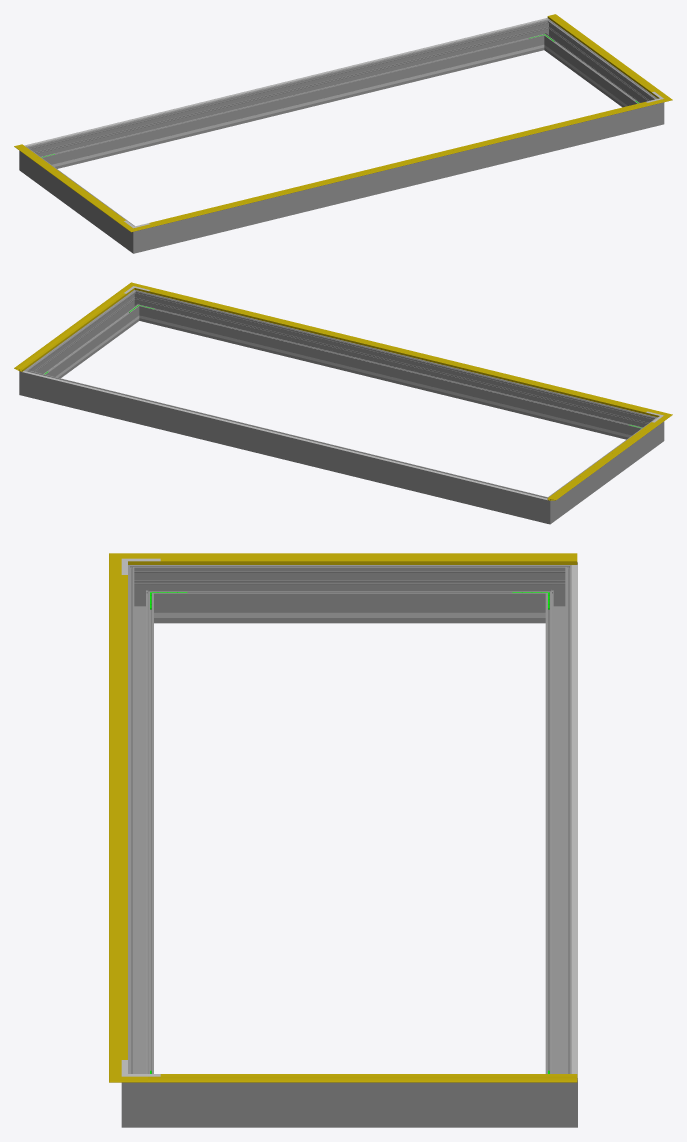
3 renders of one model, top to bottom at view 1: azimuth 30°, elevation 25°; view 2: azimuth 150°, elevation 25°; view 3: azimuth 270°, elevation 25°, orthographic. The views are drawn at different scales.
Parts seen in each view (by area): view 1: 3DGeom-276, 3DGeom-298, 3DGeom-297, 3DGeom-141, 3DGeom-268, 3DGeom-244, 3DGeom-220, 3DGeom-158, 3DGeom-145, 3DGeom-147, 3DGeom-270, 3DGeom-290 (+1 smaller); view 2: 3DGeom-298, 3DGeom-276, 3DGeom-141, 3DGeom-297, 3DGeom-268, 3DGeom-239, 3DGeom-220, 3DGeom-158, 3DGeom-145, 3DGeom-147, 3DGeom-278, 3DGeom-284 (+1 smaller); view 3: 3DGeom-268, 3DGeom-297, 3DGeom-276, 3DGeom-298, 3DGeom-141, 3DGeom-147, 3DGeom-220, 3DGeom-158, 3DGeom-145, 3DGeom-290, 3DGeom-232, 3DGeom-284 (+4 smaller).
Boxes of the visible parts, x1,y1,x2,y2 form: 3DGeom-276: (38,22,541,168); 3DGeom-298: (150,106,647,249); 3DGeom-297: (546,25,651,107); 3DGeom-141: (145,101,655,227); 3DGeom-268: (29,152,128,246); 3DGeom-244: (58,48,527,165); 3DGeom-220: (24,18,548,146); 3DGeom-158: (149,102,646,223); 3DGeom-145: (547,14,662,96); 3DGeom-147: (14,145,126,224); 3DGeom-270: (123,222,150,253); 3DGeom-290: (647,94,664,128); 3DGeom-298: (142,293,645,439); 3DGeom-276: (36,373,536,520); 3DGeom-141: (143,286,655,415); 3DGeom-297: (32,295,137,378); 3DGeom-268: (554,423,654,516); 3DGeom-239: (155,319,625,436); 3DGeom-220: (22,371,547,500); 3DGeom-158: (149,290,646,412); 3DGeom-145: (14,289,129,371); 3DGeom-147: (547,420,662,500); 3DGeom-278: (533,492,559,524); 3DGeom-284: (19,365,38,398); 3DGeom-268: (160,565,538,623); 3DGeom-297: (160,1082,538,1127); 3DGeom-276: (545,578,571,1073); 3DGeom-298: (128,578,153,1073); 3DGeom-141: (109,569,121,1065); 3DGeom-147: (148,553,577,564); 3DGeom-220: (571,564,577,1077); 3DGeom-158: (121,575,127,1059); 3DGeom-145: (148,1076,577,1082); 3DGeom-290: (121,1064,160,1127); 3DGeom-232: (191,612,507,617); 3DGeom-284: (539,1064,577,1127).
Size of the model in its own units: 4.88 by 0.2195 by 1.83.
